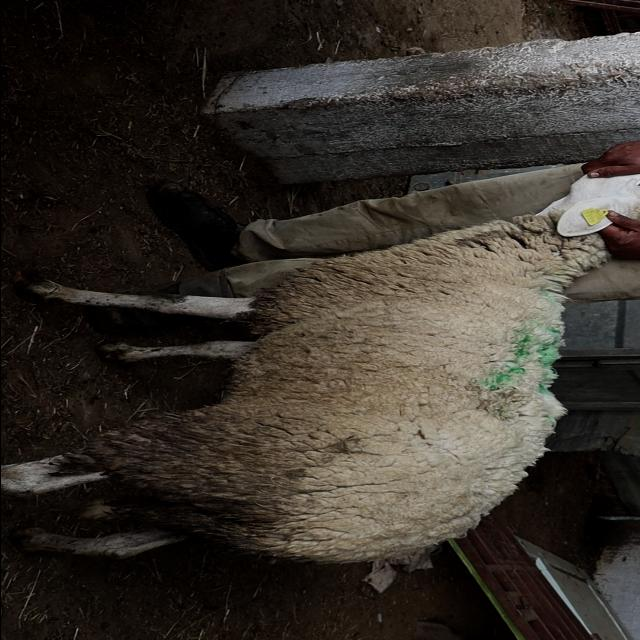Score_3: (1, 175, 640, 564)
